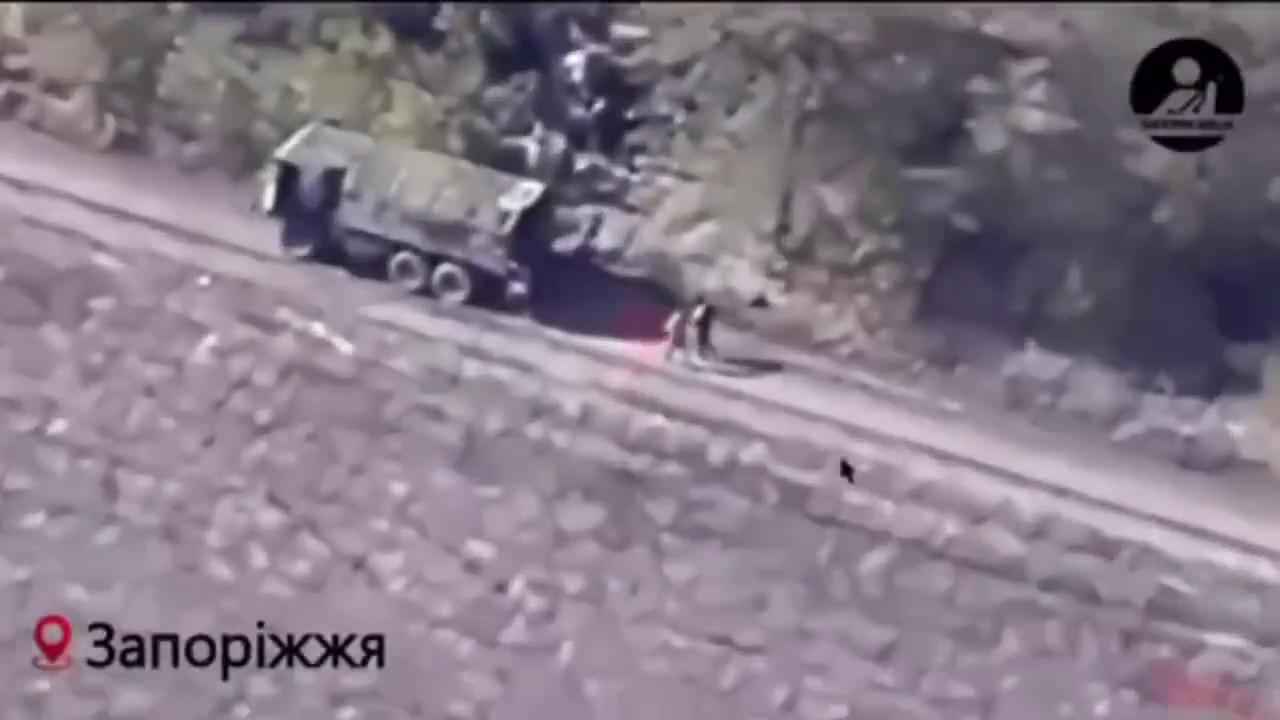tank: (252, 118, 560, 325), (535, 39, 647, 175)
